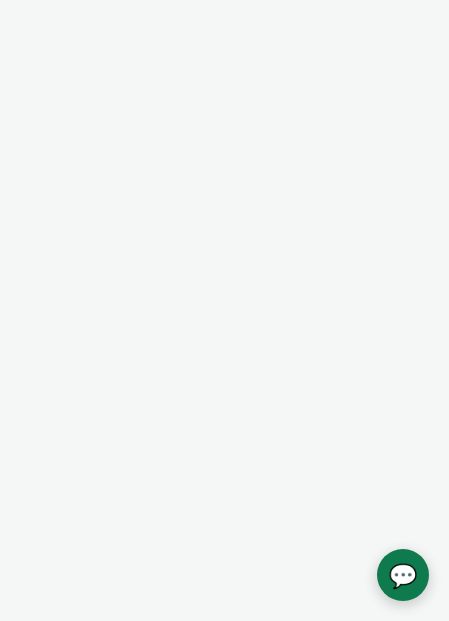
Test: NavigationAssistant › uses Hindi labels when the saved app language is Hindi
Click the button named "असिस्टेंट खोलें". click: (403, 575)
box: [377,549,429,601]
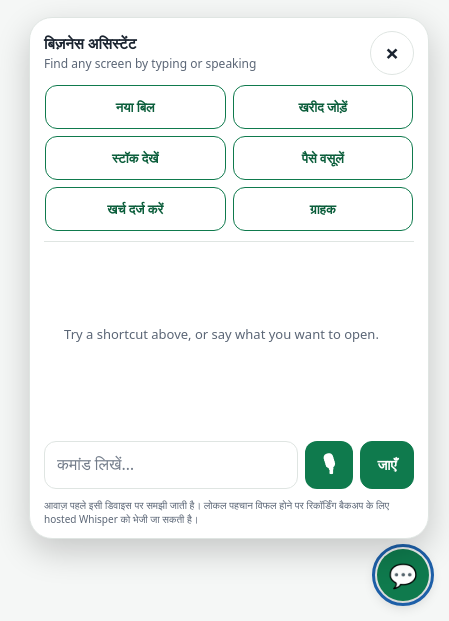
Expected: the field named "बिज़नेस असिस्टेंट" is shown, [44,441,298,489]
Expected: the button "स्टॉक देखें" is shown, [45,136,226,180]
